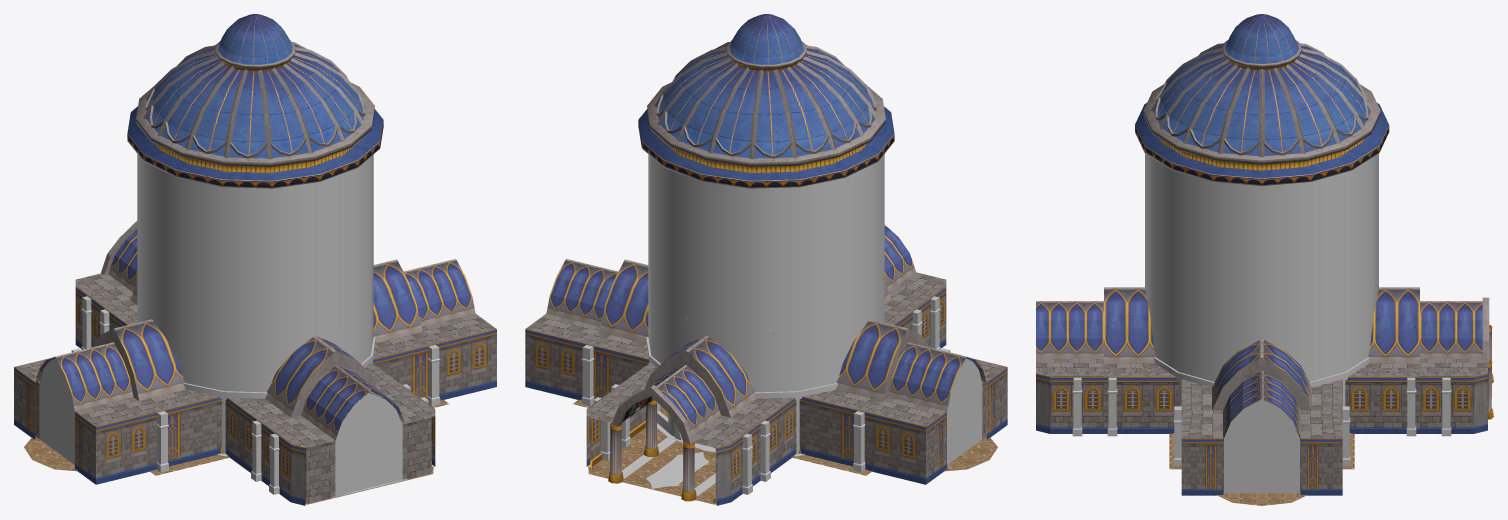
The model's file is NewBattle03_all03.FBX.
The picture shows the model from 3 angles, left to right: view 1: azimuth 30°, elevation 25°; view 2: azimuth 150°, elevation 25°; view 3: azimuth 270°, elevation 25°; orthographic projection.
Visible parts, largest first — view 1: NewBattle03_Wall03_02, NewBattle03_Wall03_01, NewBattle03_IntWall03_03, NewBattle03_IntWall03_01, NewBattle03_Interior03_04, NewBattle03_ground03_01, NewBattle03_Interior03_01; view 2: NewBattle03_Wall03_02, NewBattle03_Wall03_01, NewBattle03_Interior03_04, NewBattle03_ground03_01, NewBattle03_Interior03_01, NewBattle03_IntWall03_03, NewBattle03_IntWall03_01, NewBattle03_Interior03_02; view 3: NewBattle03_Wall03_02, NewBattle03_Wall03_01, NewBattle03_IntWall03_03, NewBattle03_Interior03_04, NewBattle03_ground03_01, NewBattle03_Interior03_01.
Part boxes in pixels (<box>): NewBattle03_Wall03_02: <box>14,14,496,505</box>; NewBattle03_Wall03_01: <box>137,154,375,453</box>; NewBattle03_IntWall03_03: <box>39,359,402,495</box>; NewBattle03_IntWall03_01: <box>35,358,432,503</box>; NewBattle03_Interior03_04: <box>71,296,440,494</box>; NewBattle03_ground03_01: <box>24,399,449,504</box>; NewBattle03_Interior03_01: <box>101,221,369,453</box>; NewBattle03_Wall03_02: <box>525,14,1007,505</box>; NewBattle03_Wall03_01: <box>646,154,884,453</box>; NewBattle03_Interior03_04: <box>581,296,950,496</box>; NewBattle03_ground03_01: <box>572,399,997,504</box>; NewBattle03_Interior03_01: <box>608,385,801,501</box>; NewBattle03_IntWall03_03: <box>947,359,982,464</box>; NewBattle03_IntWall03_01: <box>590,358,986,503</box>; NewBattle03_Interior03_02: <box>646,452,709,488</box>; NewBattle03_Wall03_02: <box>1036,14,1487,495</box>; NewBattle03_Wall03_01: <box>1145,153,1378,411</box>; NewBattle03_IntWall03_03: <box>1224,399,1299,493</box>; NewBattle03_Interior03_04: <box>1072,377,1451,465</box>; NewBattle03_ground03_01: <box>1169,433,1354,505</box>; NewBattle03_Interior03_01: <box>1103,297,1493,421</box>.
Size of the model in its own units: 61.82 by 51.94 by 55.86.
